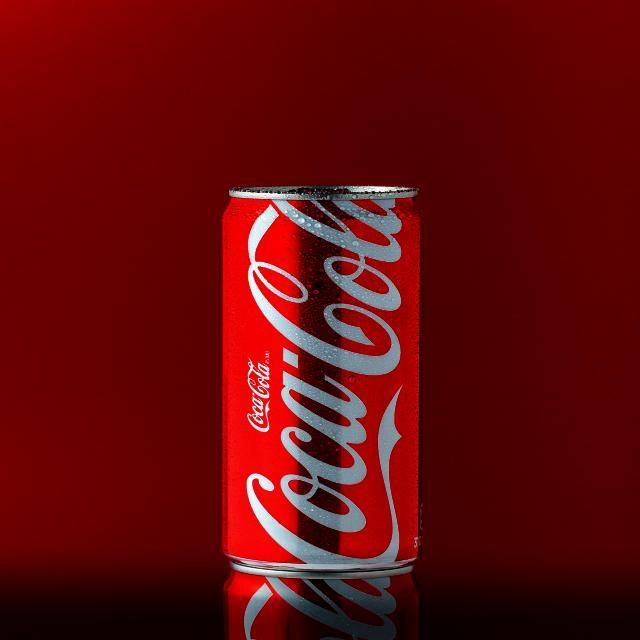can: (165, 146, 457, 621)
